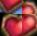heart: (0, 14, 22, 36), (22, 14, 37, 36), (0, 0, 22, 14), (22, 0, 37, 14)
